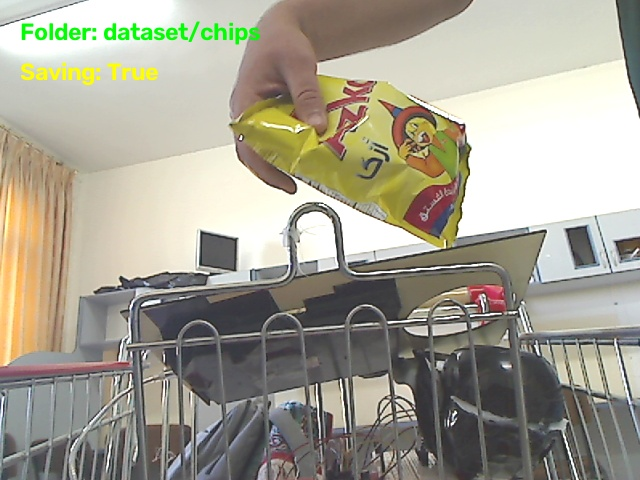chips: (230, 76, 470, 247)
